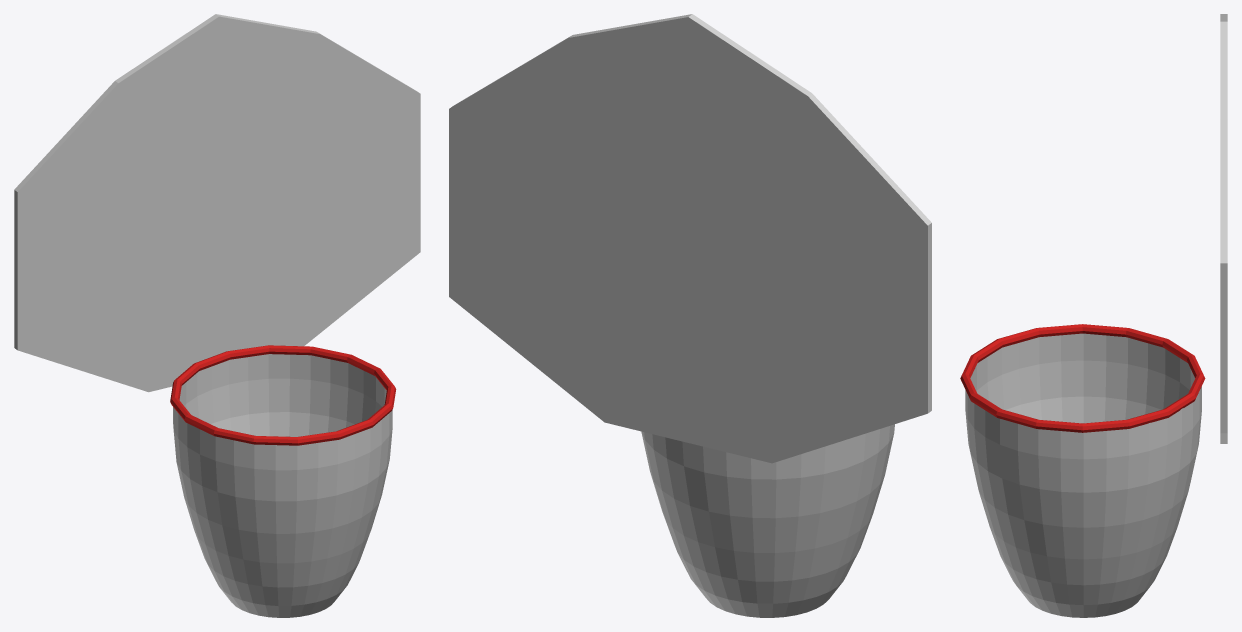
File: hoop.fbx
The picture shows the model from 3 angles, left to right: view 1: azimuth 30°, elevation 25°; view 2: azimuth 150°, elevation 25°; view 3: azimuth 270°, elevation 25°; orthographic projection. The views are drawn at different scales.
Visible parts, largest first — view 1: Cube, Cylinder; view 2: Cube, Cylinder; view 3: Cylinder, Cube.
Part boxes in pixels (x1,y1,x2,y2): Cube: (14,14,420,445); Cylinder: (173,354,392,617); Cube: (449,14,931,463); Cylinder: (641,424,894,617); Cylinder: (965,333,1201,617); Cube: (960,14,1227,443).
Size of the model in its own units: 400 by 505 by 214.
